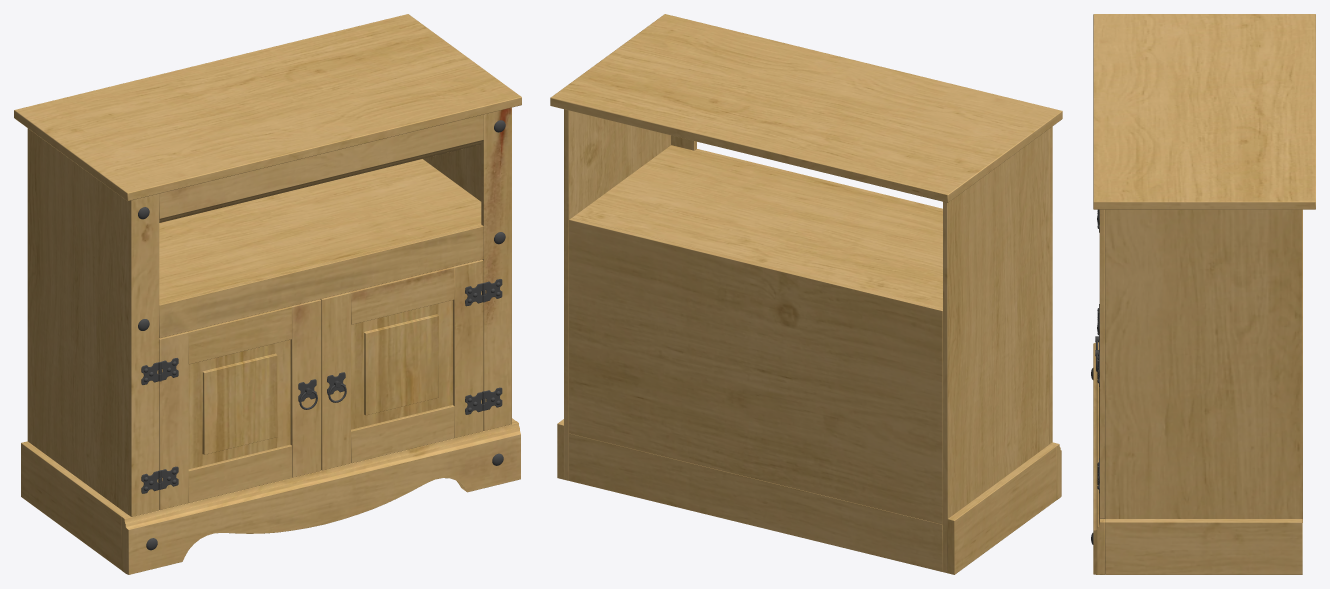
The model's file is B008RLJR2G.glb.
The picture shows the model from 3 angles, left to right: view 1: azimuth 30°, elevation 25°; view 2: azimuth 150°, elevation 25°; view 3: azimuth 270°, elevation 25°; orthographic projection. The views are drawn at different scales.
Visible parts, largest first — view 1: B008RLJR2G; view 2: B008RLJR2G; view 3: B008RLJR2G.
Boxes of the visible parts, box(x1,y1,x2,y2) form: B008RLJR2G: box(14, 14, 521, 574); B008RLJR2G: box(550, 14, 1062, 574); B008RLJR2G: box(1091, 14, 1315, 574).
Bounding box in the file's own units: 0.8509 × 0.7874 × 0.43.
1 material, 1 textured.
